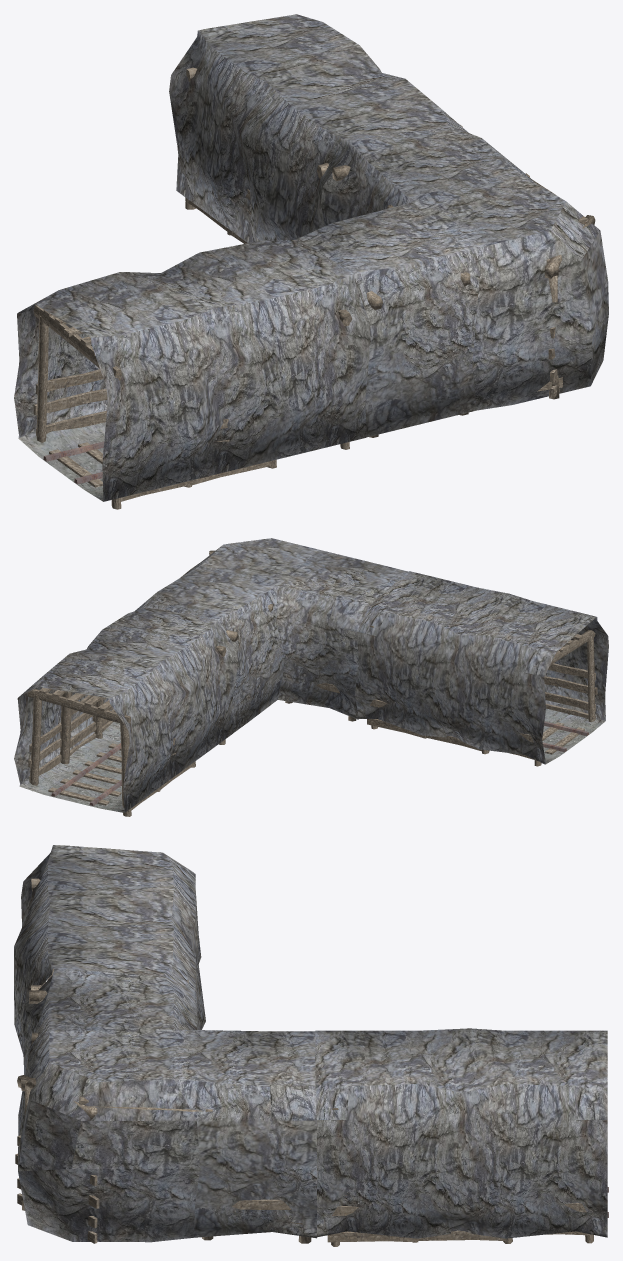
The model's file is Mine_04.fbx.
The picture shows the model from 3 angles, top to bottom: view 1: azimuth 30°, elevation 25°; view 2: azimuth 150°, elevation 25°; view 3: azimuth 270°, elevation 25°; orthographic projection. The views are drawn at different scales.
Parts seen in each view (by area): view 1: Mine_04; view 2: Mine_04; view 3: Mine_04.
Part boxes in pixels (bbox=[...]): Mine_04: bbox=[14, 14, 608, 509]; Mine_04: bbox=[14, 538, 608, 816]; Mine_04: bbox=[14, 845, 608, 1246].
Size of the model in its own units: 1192 by 358 by 1196.
